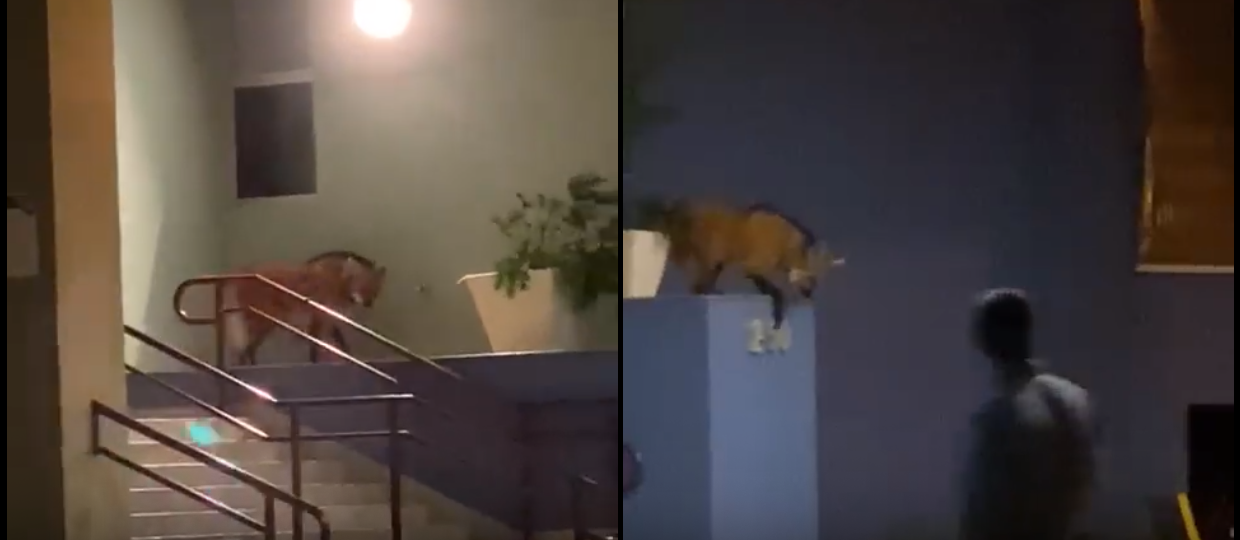LoboGuara: (675, 190, 843, 335), (210, 242, 405, 360)
